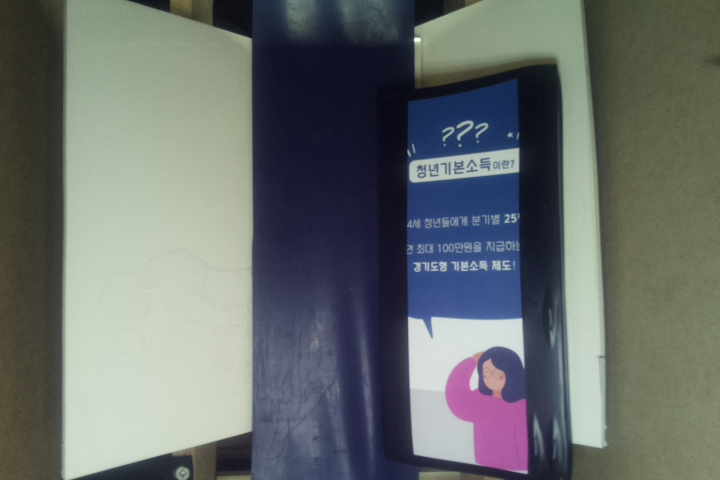book: (390, 61, 562, 480)
